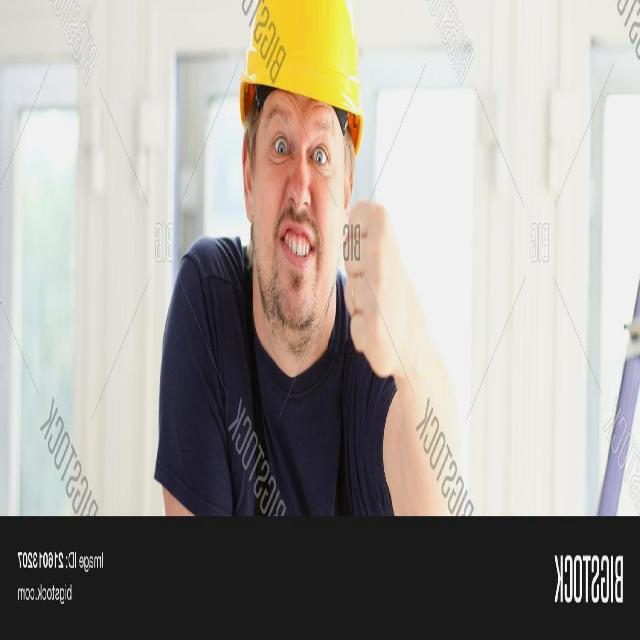face_nomask: (248, 108, 343, 312)
hand_noglove: (331, 169, 410, 373)
head_helmet: (239, 6, 362, 128)
person: (152, 1, 444, 506)
